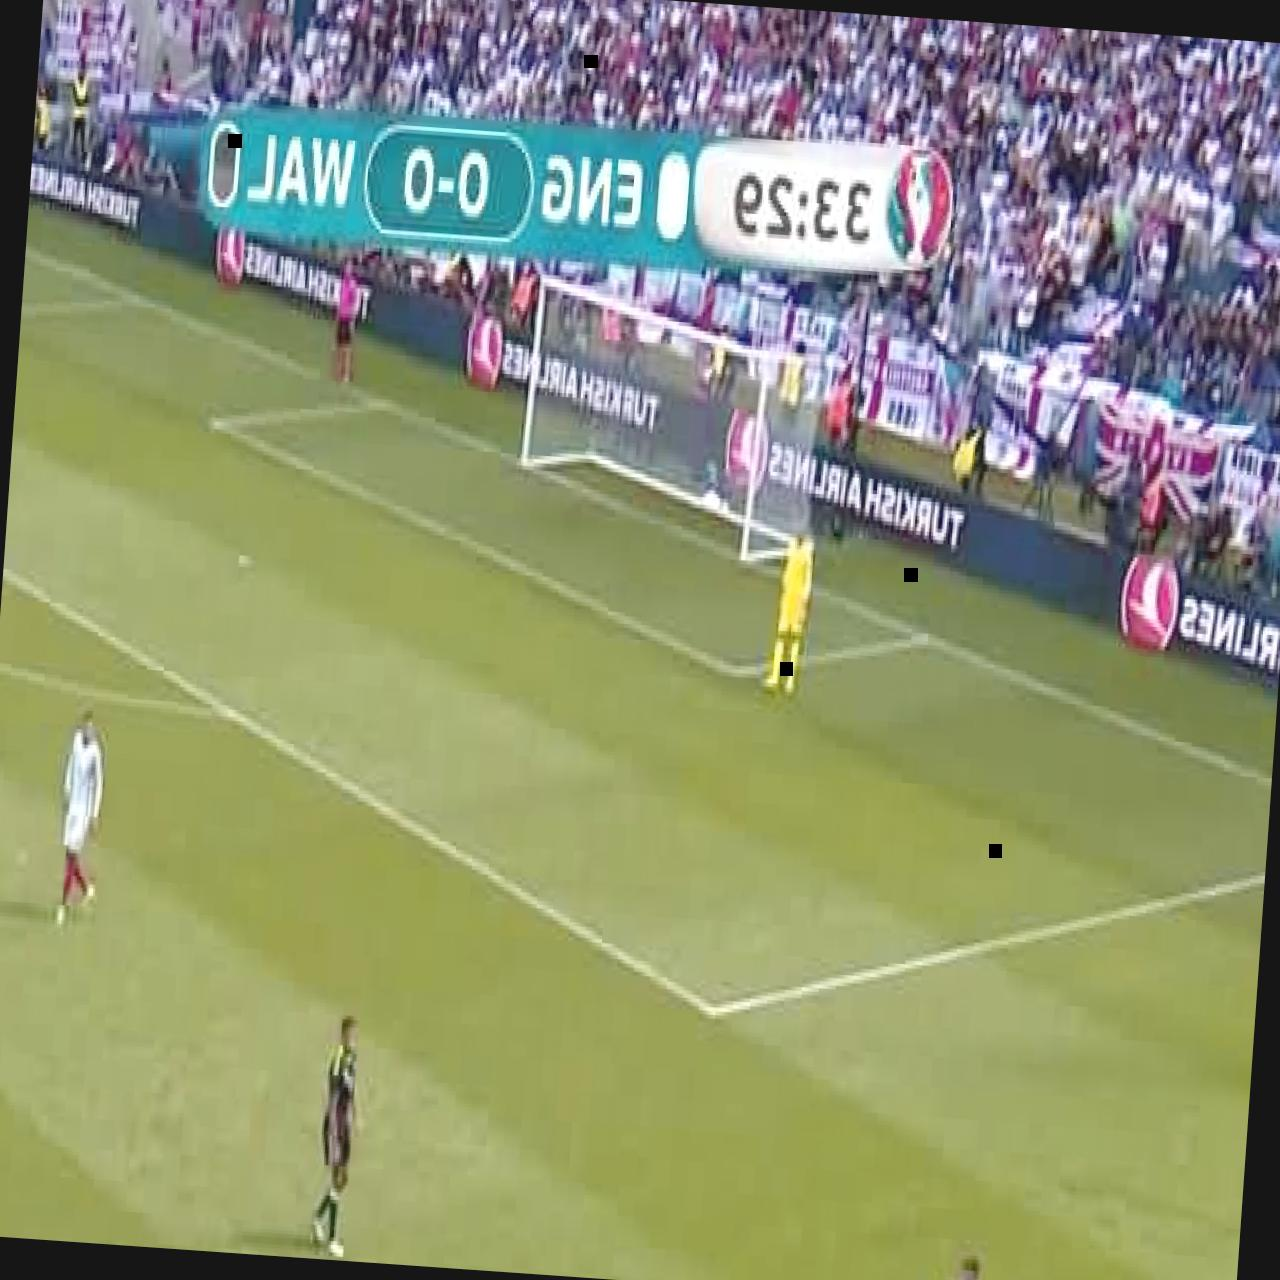football: (308, 1016, 366, 1258), (54, 711, 108, 926), (763, 522, 815, 698), (332, 260, 362, 386), (905, 1247, 993, 1280)
